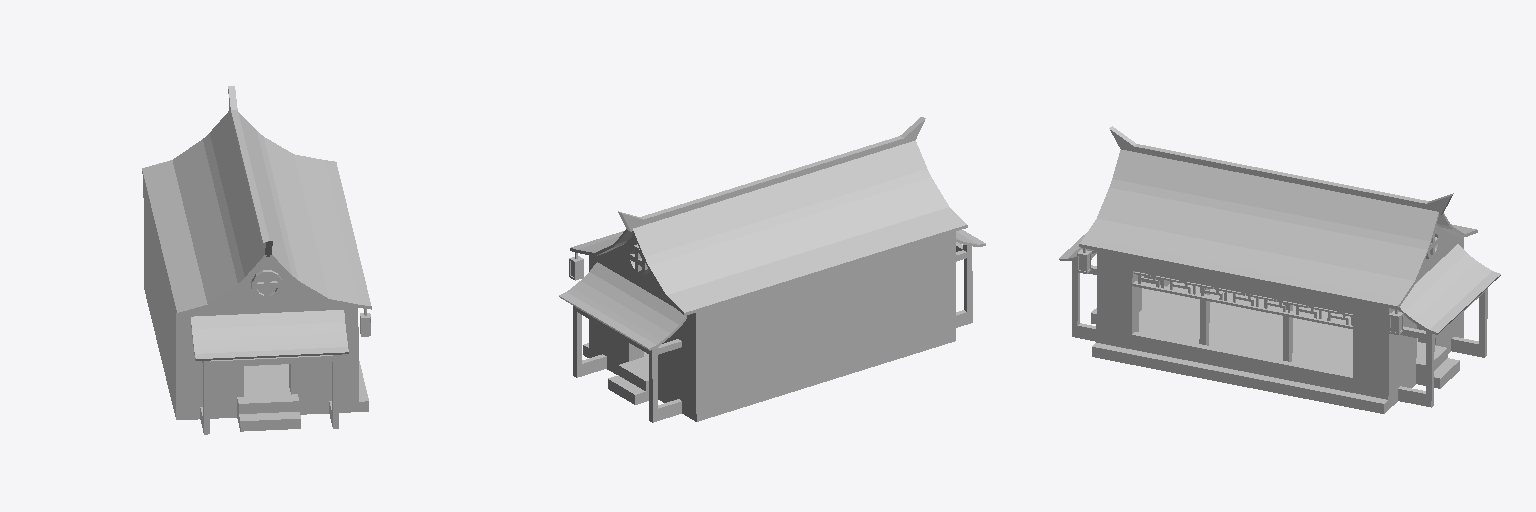
The model's file is house1.obj.
3 renders of one model, left to right at view 1: azimuth 30°, elevation 25°; view 2: azimuth 150°, elevation 25°; view 3: azimuth 270°, elevation 25°, orthographic.
Parts seen in each view (by area): view 1: Cylinder.001_Cylinder.000; view 2: Cylinder.001_Cylinder.000; view 3: Cylinder.001_Cylinder.000.
Part boxes in pixels (left/top/right/bottom): Cylinder.001_Cylinder.000: left=142, top=86, right=371, bottom=434; Cylinder.001_Cylinder.000: left=559, top=117, right=985, bottom=422; Cylinder.001_Cylinder.000: left=1059, top=126, right=1500, bottom=413.
Size of the model in its own units: 7.26 by 4.68 by 9.99.